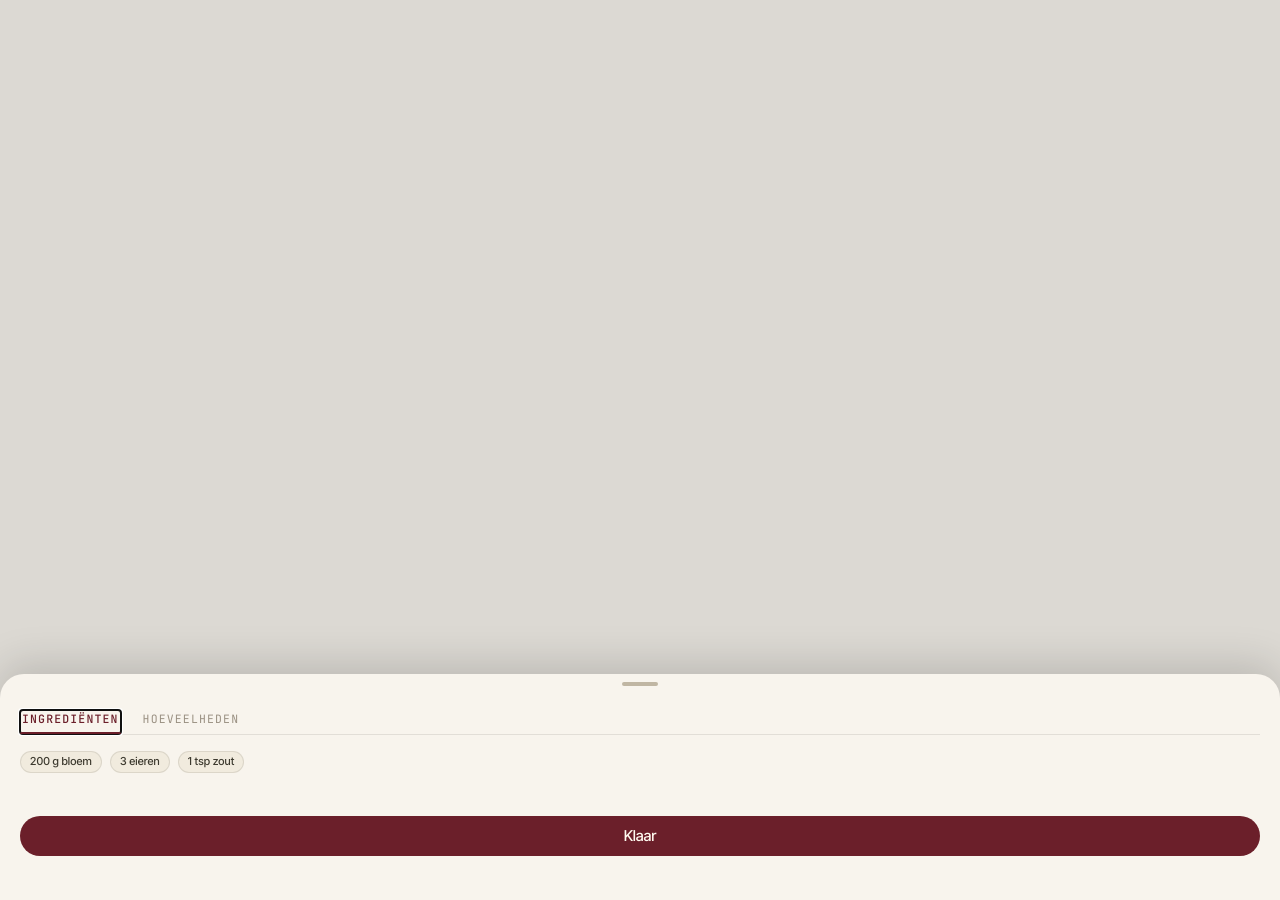
Test: IngredientPickerSheet › shows "Selecteer eerst ingrediënten" on the amounts tab when nothing is selected
Click the button "Hoeveelheden".
click(191, 722)  # box [141,710,241,734]
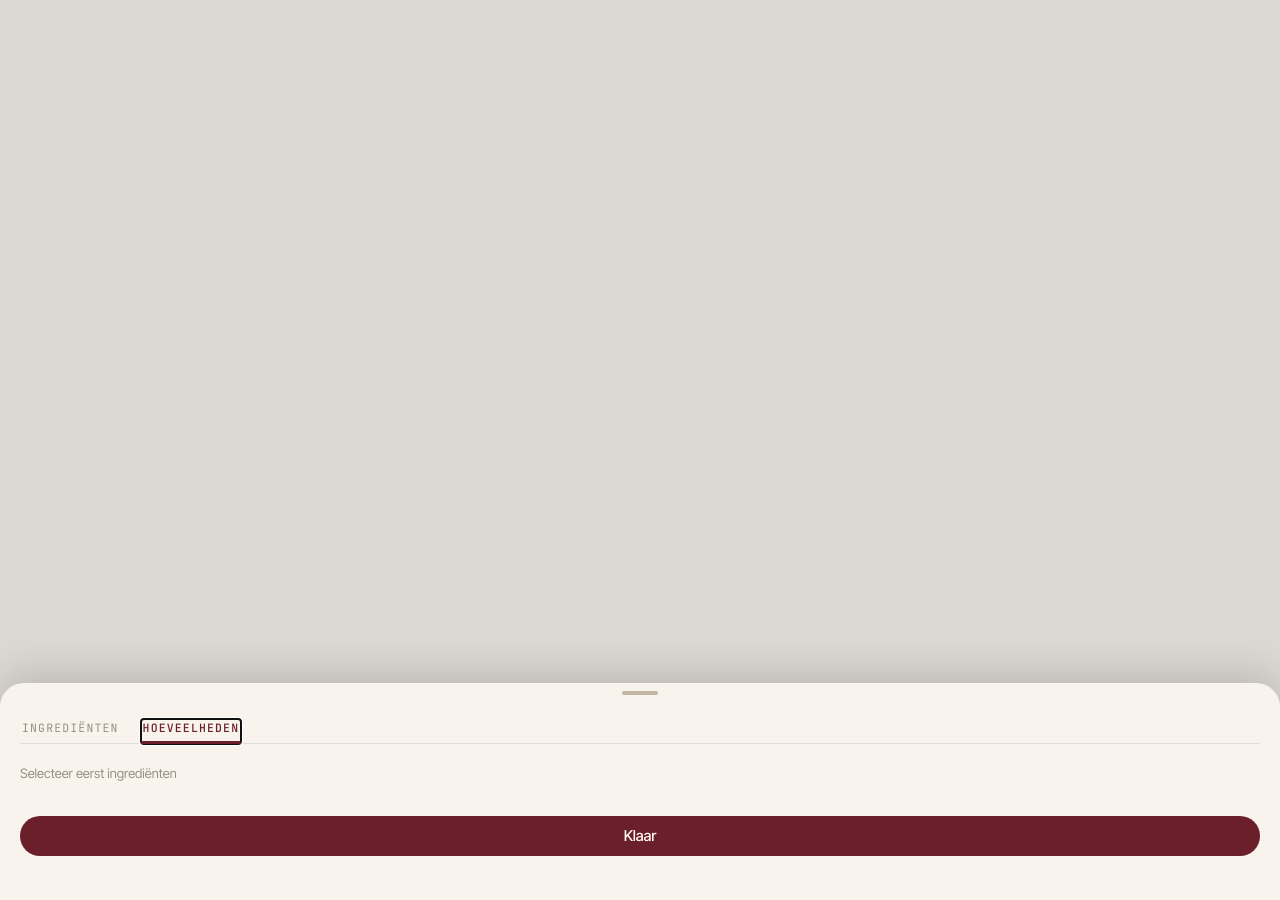
Result: the text "Selecteer eerst ingrediënten" is shown at [20,765,177,781]
